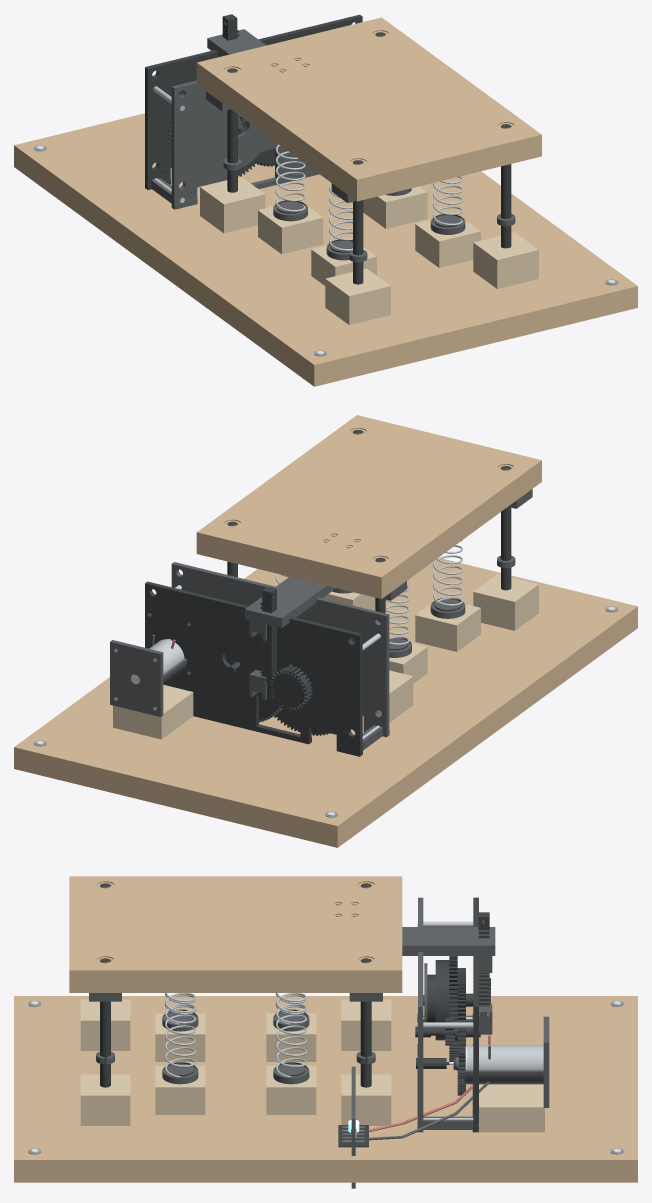
File: step-power-generator-ar-30.glb
The picture shows the model from 3 angles, top to bottom: view 1: azimuth 30°, elevation 25°; view 2: azimuth 150°, elevation 25°; view 3: azimuth 270°, elevation 25°; orthographic projection. The views are drawn at different scales.
Parts seen in each view (by area): view 1: W1 fixed wooden base 280x450x18, W2 moving wooden pedal 160x240x18, Printed two-hole gearbox cheek, Printed three-hole gearbox cheek, W3 guide timber block 2, W3 guide timber block 4, W3 guide timber block 1, W4 spring riser 1, W4 spring riser 4, W4 spring riser 3, W4 spring riser 2, Printed rack-to-pedal bridge (+8 smaller); view 2: W1 fixed wooden base 280x450x18, W2 moving wooden pedal 160x240x18, Printed three-hole gearbox cheek, Printed two-hole gearbox cheek, Printed motor cradle, W3 guide timber block 2, Motor support timber block 42x20x48, W4 spring riser 2, Printed rack-to-pedal bridge, Custom 30T trial rack pinion, Actual printed rack strip, W3 guide timber block 1 (+5 smaller); view 3: W1 fixed wooden base 280x450x18, W2 moving wooden pedal 160x240x18, Motor support timber block 42x20x48, Printed rack-to-pedal bridge, W3 guide timber block 4, W3 guide timber block 3, W3 guide timber block 1, W3 guide timber block 2, W4 spring riser 3, W4 spring riser 4, Metal DC motor body, Printed motor cradle (+17 smaller).
Part boxes in pixels (x1,y1,x2,y2): W1 fixed wooden base 280x450x18: [14, 113, 637, 386]; W2 moving wooden pedal 160x240x18: [196, 17, 541, 201]; Printed two-hole gearbox cheek: [171, 80, 319, 209]; Printed three-hole gearbox cheek: [145, 14, 362, 189]; W3 guide timber block 2: [325, 268, 390, 324]; W3 guide timber block 4: [473, 232, 538, 288]; W3 guide timber block 1: [200, 176, 265, 233]; W4 spring riser 1: [258, 201, 323, 254]; W4 spring riser 4: [415, 214, 480, 267]; W4 spring riser 3: [363, 186, 427, 228]; W4 spring riser 2: [311, 245, 376, 285]; Printed rack-to-pedal bridge: [207, 29, 266, 56]; W1 fixed wooden base 280x450x18: [14, 557, 637, 847]; W2 moving wooden pedal 160x240x18: [196, 415, 541, 598]; Printed three-hole gearbox cheek: [145, 581, 362, 756]; Printed two-hole gearbox cheek: [171, 562, 389, 737]; Printed motor cradle: [110, 640, 187, 716]; W3 guide timber block 2: [473, 574, 538, 630]; Motor support timber block 42x20x48: [113, 685, 193, 739]; W4 spring riser 2: [415, 597, 480, 651]; Printed rack-to-pedal bridge: [245, 576, 335, 627]; Custom 30T trial rack pinion: [269, 666, 312, 710]; Actual printed rack strip: [260, 586, 276, 698]; W3 guide timber block 1: [362, 670, 413, 722]; W1 fixed wooden base 280x450x18: [14, 996, 637, 1182]; W2 moving wooden pedal 160x240x18: [69, 876, 402, 992]; Motor support timber block 42x20x48: [478, 1084, 544, 1132]; Printed rack-to-pedal bridge: [402, 927, 495, 955]; W3 guide timber block 4: [80, 1074, 130, 1125]; W3 guide timber block 3: [341, 1074, 391, 1125]; W3 guide timber block 1: [341, 999, 391, 1050]; W3 guide timber block 2: [80, 999, 130, 1050]; W4 spring riser 3: [266, 1066, 316, 1114]; W4 spring riser 4: [155, 1066, 205, 1114]; Metal DC motor body: [467, 1045, 543, 1070]; Printed motor cradle: [464, 1016, 549, 1107].
Bounding box in the file's own units: 0.28 × 0.1537 × 0.45.
